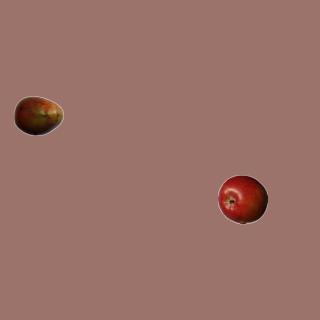Apple Braeburn: (217, 174, 267, 224)
Mango Red: (13, 90, 63, 140)
